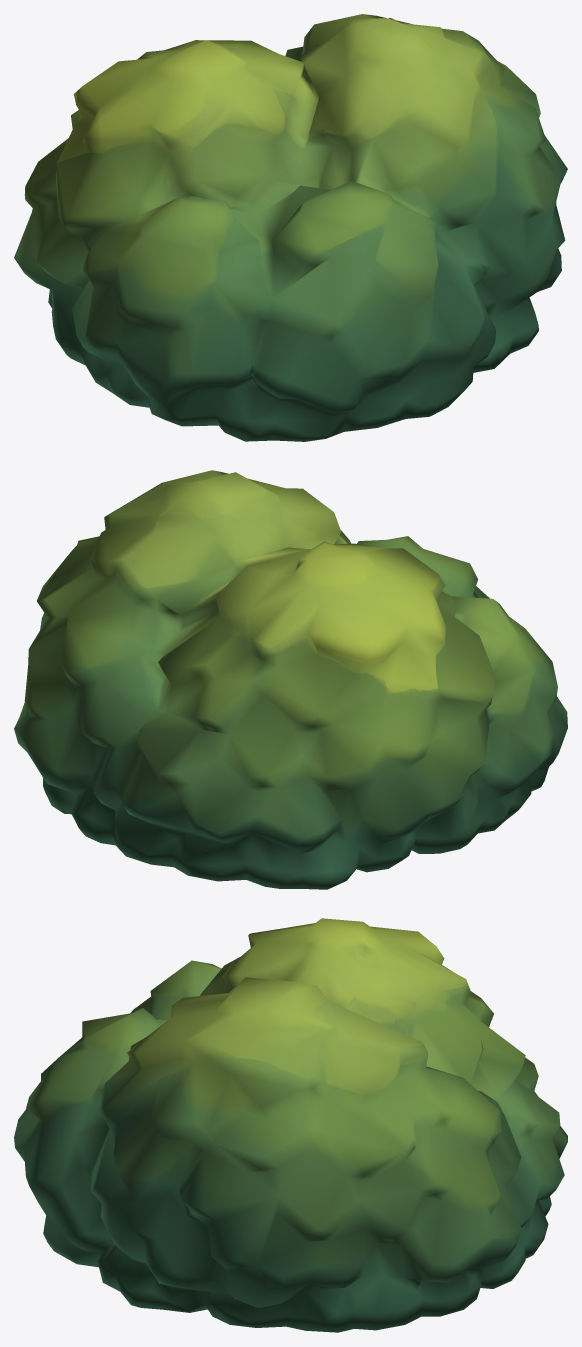
File: bush-round.glb
3 renders of one model, top to bottom at view 1: azimuth 30°, elevation 25°; view 2: azimuth 150°, elevation 25°; view 3: azimuth 270°, elevation 25°, orthographic. The views are drawn at different scales.
Parts seen in each view (by area): view 1: tripo_node_71cf9644-d4b7-4195-9ac8-3c36ee8b3714; view 2: tripo_node_71cf9644-d4b7-4195-9ac8-3c36ee8b3714; view 3: tripo_node_71cf9644-d4b7-4195-9ac8-3c36ee8b3714.
Part boxes in pixels (x1,y1,x2,y2): tripo_node_71cf9644-d4b7-4195-9ac8-3c36ee8b3714: (14,14,567,441); tripo_node_71cf9644-d4b7-4195-9ac8-3c36ee8b3714: (14,470,567,889); tripo_node_71cf9644-d4b7-4195-9ac8-3c36ee8b3714: (14,918,567,1332).
Bounding box in the file's own units: 1.02 × 0.7 × 1.02.
1 material, 1 textured.
